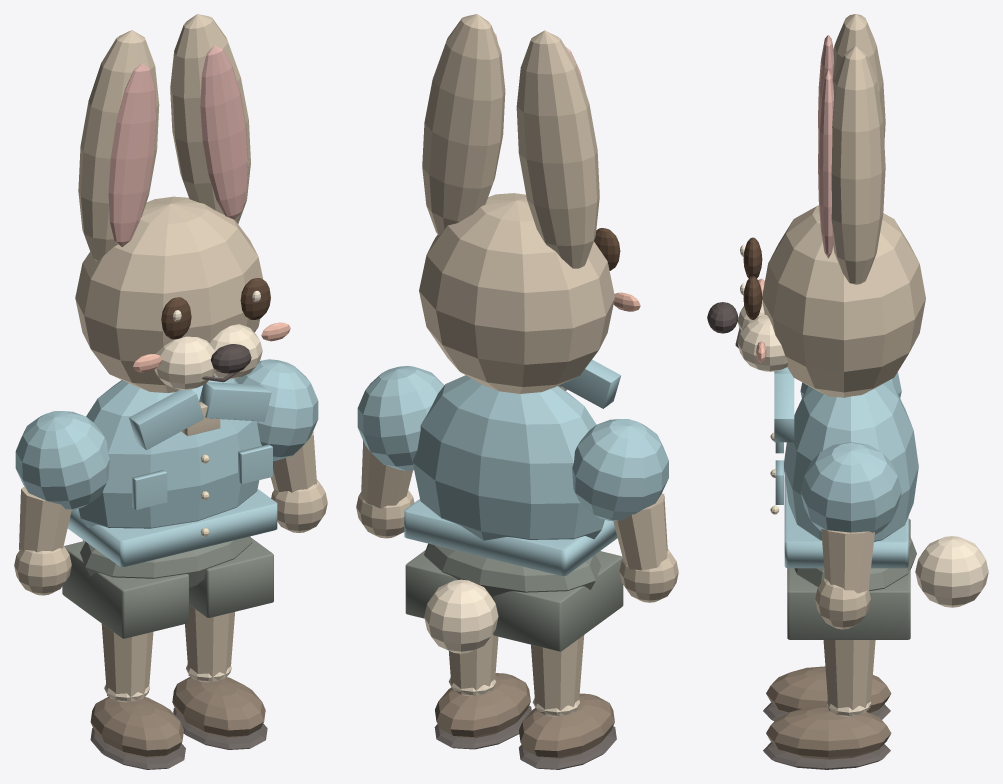
The model's file is character-rabbit.glb.
The picture shows the model from 3 angles, left to right: view 1: azimuth 30°, elevation 25°; view 2: azimuth 150°, elevation 25°; view 3: azimuth 270°, elevation 25°; orthographic projection. The views are drawn at different scales.
Visible parts, largest first — view 1: Rabbit rounded head, Camp shirt body, Rabbit tall ear, Sleeve, Rabbit tall ear.001, Shorts leg, Shirt straight hem, Rabbit inner pink ear, Rabbit inner pink ear.001, Sleeve.001, Hiking shoe.001, Hiking shoe (+19 smaller); view 2: Rabbit rounded head, Camp shirt body, Rabbit tall ear, Rabbit tall ear.001, Sleeve, Shorts leg, Sleeve.001, Shirt straight hem, Shorts waistband, Rabbit cotton tail, Hiking shoe, Hiking shoe.001 (+11 smaller); view 3: Rabbit rounded head, Rabbit tall ear.001, Camp shirt body, Sleeve.001, Shorts leg.001, Hiking shoe.001, Rabbit cotton tail, Short leg.001, Shirt straight hem, Exposed forearm.001, Hiking shoe, Rabbit inner pink ear.001 (+10 smaller).
Part boxes in pixels (x1,y1,x2,y2): Rabbit rounded head: [75, 196, 263, 392]; Camp shirt body: [78, 376, 261, 528]; Rabbit tall ear: [78, 30, 159, 260]; Sleeve: [15, 411, 109, 510]; Rabbit tall ear.001: [170, 14, 250, 223]; Shorts leg: [62, 541, 188, 638]; Shirt straight hem: [67, 489, 277, 567]; Rabbit inner pink ear: [108, 63, 156, 246]; Rabbit inner pink ear.001: [200, 45, 248, 219]; Sleeve.001: [235, 359, 318, 460]; Hiking shoe.001: [172, 677, 265, 737]; Hiking shoe: [90, 696, 183, 757]; Rabbit rounded head: [419, 193, 614, 393]; Camp shirt body: [412, 375, 604, 540]; Rabbit tall ear: [516, 30, 599, 268]; Rabbit tall ear.001: [422, 14, 505, 235]; Sleeve: [572, 419, 668, 521]; Shorts leg: [493, 551, 623, 651]; Sleeve.001: [357, 366, 444, 470]; Shirt straight hem: [404, 499, 617, 576]; Shorts waistband: [424, 543, 601, 598]; Rabbit cotton tail: [424, 579, 498, 653]; Hiking shoe: [519, 693, 614, 758]; Hiking shoe.001: [435, 673, 530, 738]; Rabbit rounded head: [762, 205, 925, 397]; Rabbit tall ear.001: [831, 46, 885, 284]; Camp shirt body: [784, 380, 918, 541]; Sleeve.001: [800, 442, 901, 534]; Shorts leg.001: [787, 568, 910, 639]; Hiking shoe.001: [766, 706, 891, 759]; Rabbit cotton tail: [915, 536, 988, 607]; Short leg.001: [823, 640, 875, 716]; Shirt straight hem: [784, 477, 908, 568]; Exposed forearm.001: [821, 529, 874, 593]; Hiking shoe: [766, 666, 891, 713]; Rabbit inner pink ear.001: [818, 70, 833, 258].
Bounding box in the file's own units: 0.788 × 1.74 × 0.628.
